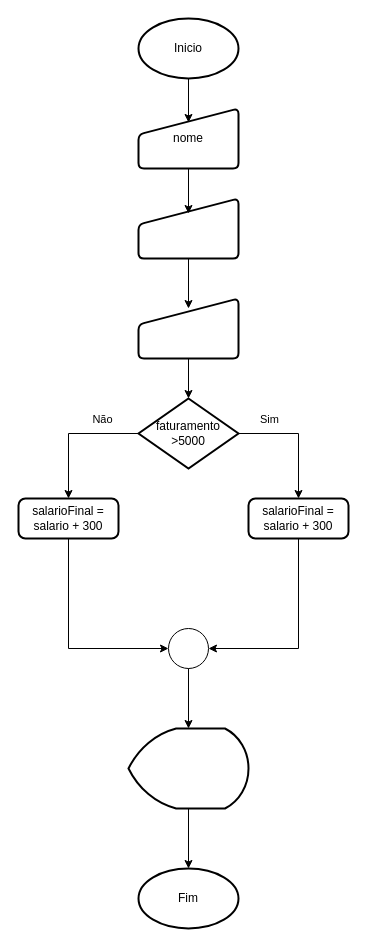
Image size: 366x946. Some labels were removed from this diagram. Here are the shapes that lost their labels. From the top down, the centre of each, then its label:
At pixel 188 228: "salario".
At pixel 188 328: "faturamento".
At pixel 188 768: "nome faturamento salario salarioFInal".
